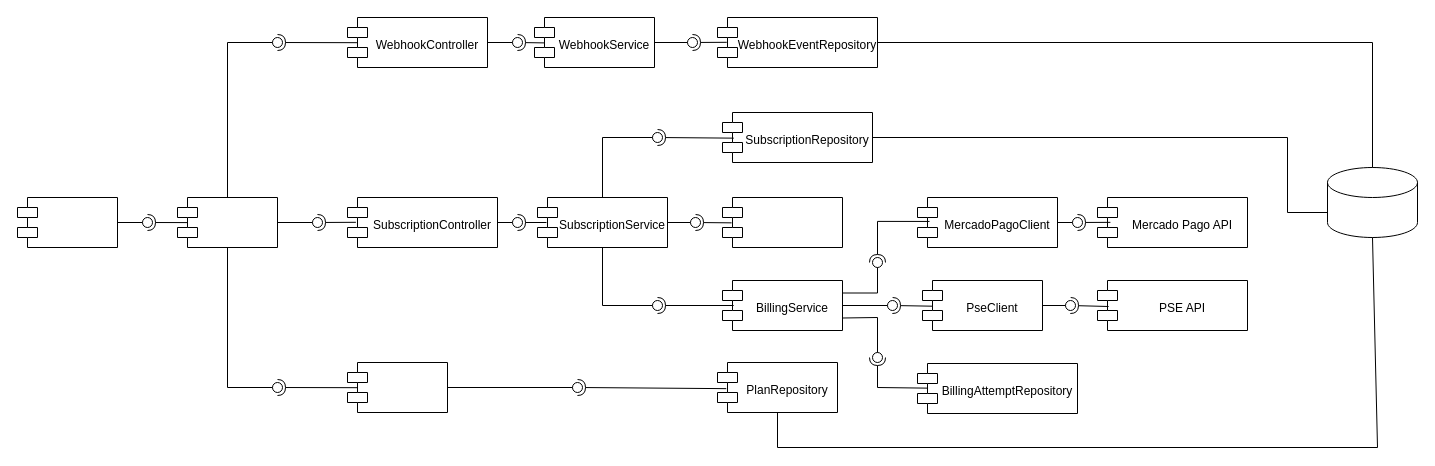
The diagram is 1435 pixels wide and 466 high, and some of its shapes have lost their labels. The box of each missing label's shape, as (x1, y1, x2, y2) in pixels:
API Gateway: (176, 196, 278, 248)
Frontend: (16, 196, 118, 248)
OutboxRepository: (722, 196, 842, 248)
pagos_db PostgreSQL: (1326, 166, 1418, 238)
PlanController: (346, 362, 448, 412)
